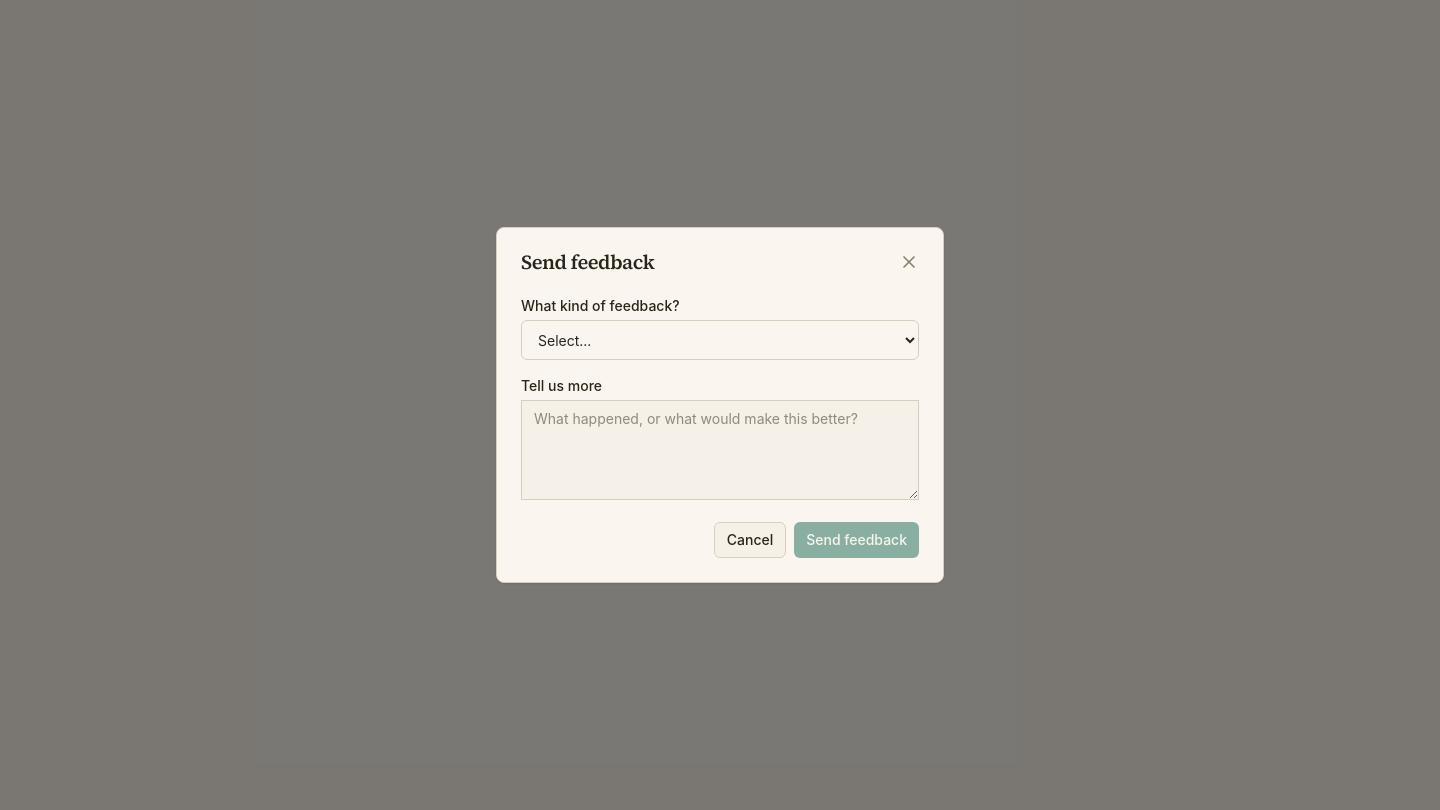
Scenario: FeedbackModal › keeps submit disabled until a category and message are entered
The width and height of the screenshot is (1440, 810).
expect the button "Send feedback" is disabled: met, box [794,522,919,558]
Select "Something is broken" in the dropdown named "Feedback category" at (720, 340), box [521,320,919,360]
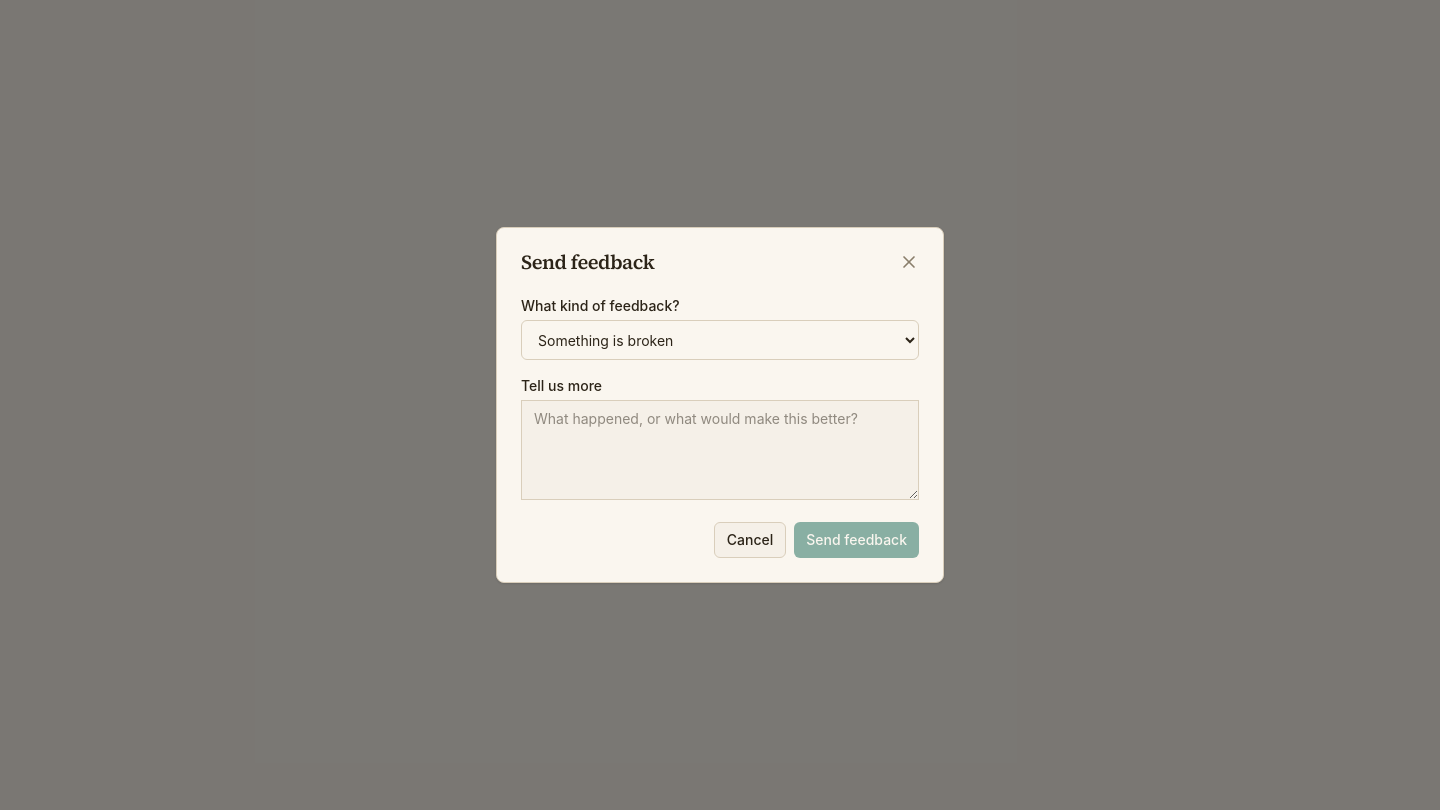
Type "Button does nothing." into the text box labelled "Tell us more".
click(720, 450); type("Button does nothing.")  # box [521,400,919,500]
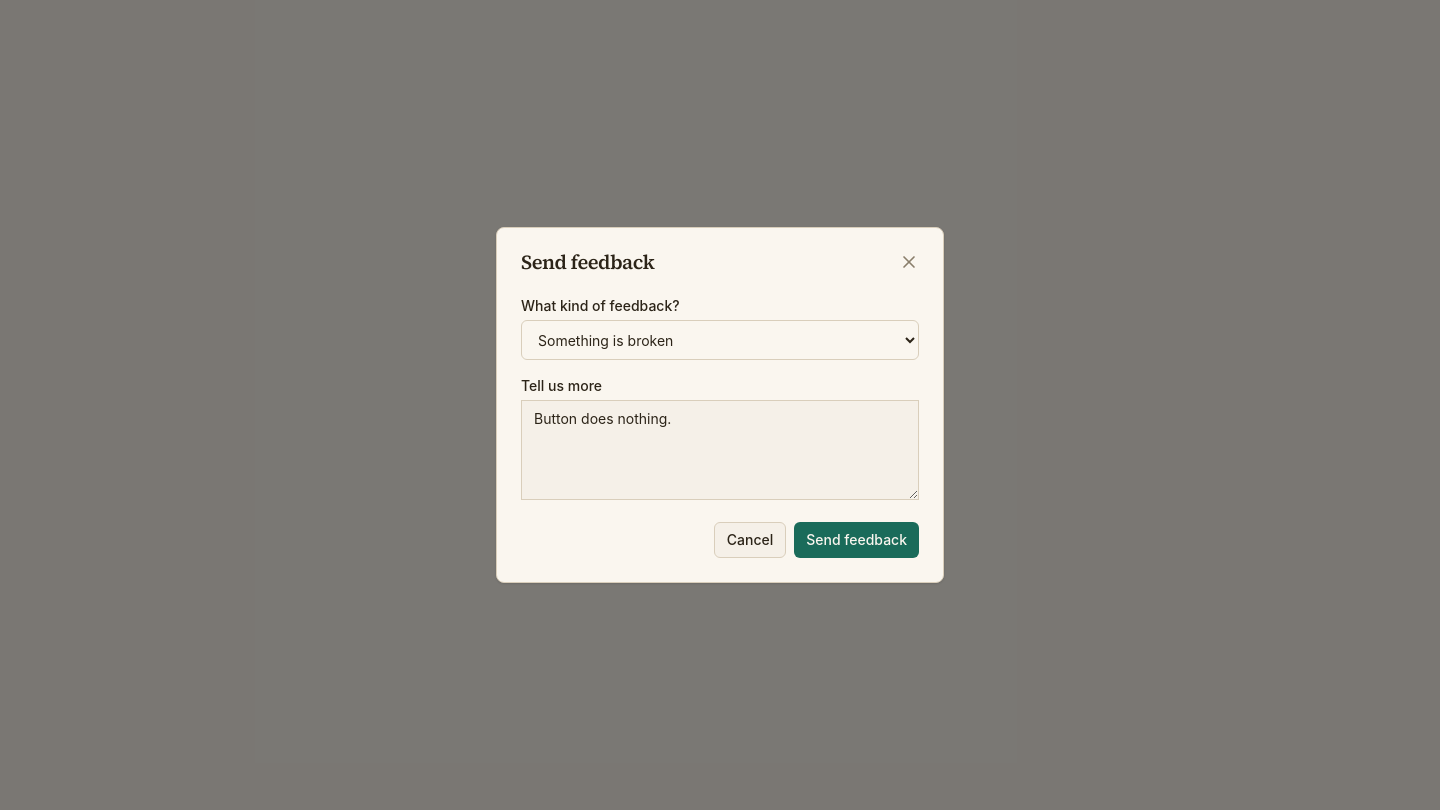
expect the button "Send feedback" is enabled: met, box [794,522,919,558]
